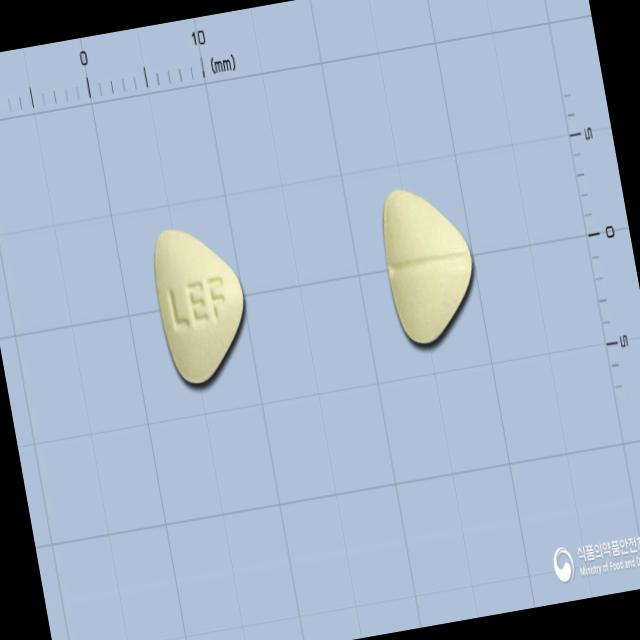Hanlim Leflunomide: (146, 218, 258, 391)
